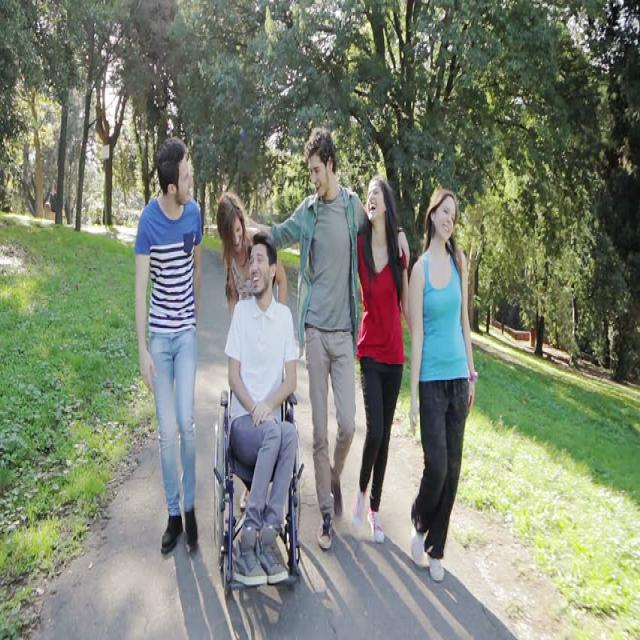body: (262, 126, 367, 554), (132, 129, 205, 559), (405, 184, 481, 587), (222, 226, 301, 590), (349, 170, 416, 546), (215, 191, 288, 328), (45, 171, 71, 225)
